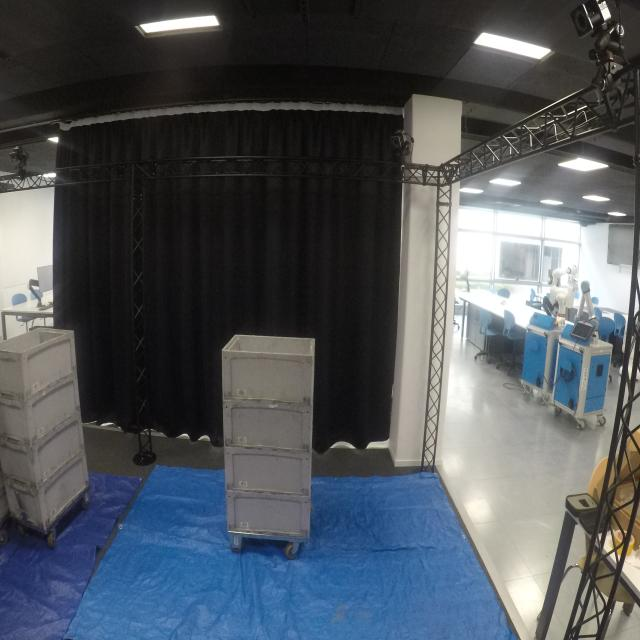Box4G: (220, 330, 317, 407), (0, 452, 88, 531), (0, 407, 83, 490), (0, 324, 77, 401), (0, 375, 81, 446), (221, 397, 316, 456), (224, 446, 316, 501), (226, 492, 314, 543)
